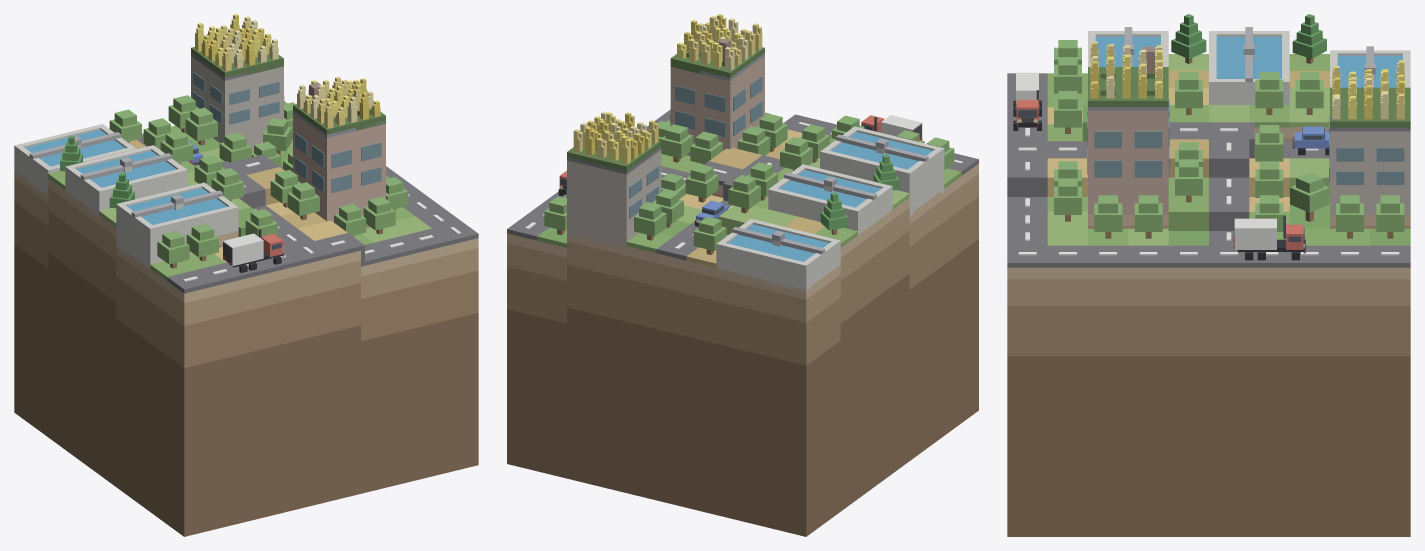
File: block_12_urbanfarm_20.glb
3 renders of one model, left to right at view 1: azimuth 30°, elevation 25°; view 2: azimuth 150°, elevation 25°; view 3: azimuth 270°, elevation 25°, orthographic. The views are drawn at different scales.
Parts seen in each view (by area): view 1: Patch_LowerLeft_b11_UF, Tanks_LowerLeft_UF, Factories_LowerLeft_b11_UF, Roads_LowerLeft_b11_UF, Ground_LowerLeft_b11_UF, UFR_Factories_LowerLeft_b11_UF, Asset_Truck.006_UF, Asset_Tree_Round.103_UF, Asset_Tree_Round.106_UF, Asset_Tree_Round.075_UF, Asset_Tree_Round.107_UF, Asset_Tree_Round.110_UF (+14 smaller); view 2: Patch_LowerLeft_b11_UF, Tanks_LowerLeft_UF, Factories_LowerLeft_b11_UF, Ground_LowerLeft_b11_UF, Roads_LowerLeft_b11_UF, UFR_Factories_LowerLeft_b11_UF, Asset_Tree_Round.081_UF, Asset_Truck.006_UF, Asset_Tree_Round.078_UF, Asset_Tree_Round.073_UF, Asset_Tree_Round.092_UF, Asset_Tree_Round.072_UF (+10 smaller); view 3: Patch_LowerLeft_b11_UF, Roads_LowerLeft_b11_UF, Ground_LowerLeft_b11_UF, Factories_LowerLeft_b11_UF, Tanks_LowerLeft_UF, UFR_Factories_LowerLeft_b11_UF, Asset_Truck.005_UF, RoadLines_LowerLeft_b11_UF, Asset_Truck.006_UF, Asset_Tree_Round.059_UF, Asset_Tree_Pine.001_UF, Asset_Tree_Pine.003_UF (+18 smaller).
Part boxes in pixels (x1,y1,x2,y2): Patch_LowerLeft_b11_UF: [14, 147, 478, 536]; Tanks_LowerLeft_UF: [14, 124, 238, 268]; Factories_LowerLeft_b11_UF: [191, 53, 385, 222]; Roads_LowerLeft_b11_UF: [137, 133, 478, 293]; Ground_LowerLeft_b11_UF: [48, 125, 431, 280]; UFR_Factories_LowerLeft_b11_UF: [191, 47, 385, 134]; Asset_Truck.006_UF: [223, 229, 284, 272]; Asset_Tree_Round.103_UF: [287, 182, 319, 219]; Asset_Tree_Round.106_UF: [157, 230, 189, 268]; Asset_Tree_Round.075_UF: [185, 107, 217, 145]; Asset_Tree_Round.107_UF: [186, 223, 218, 261]; Asset_Tree_Round.110_UF: [363, 196, 395, 234]; Patch_LowerLeft_b11_UF: [507, 163, 978, 536]; Tanks_LowerLeft_UF: [716, 126, 944, 292]; Factories_LowerLeft_b11_UF: [567, 38, 764, 248]; Ground_LowerLeft_b11_UF: [537, 129, 961, 267]; Roads_LowerLeft_b11_UF: [507, 109, 978, 260]; UFR_Factories_LowerLeft_b11_UF: [567, 47, 764, 172]; Asset_Tree_Round.081_UF: [685, 164, 718, 202]; Asset_Truck.006_UF: [861, 115, 922, 140]; Asset_Tree_Round.078_UF: [728, 175, 760, 213]; Asset_Tree_Round.073_UF: [634, 202, 666, 240]; Asset_Tree_Round.092_UF: [660, 124, 693, 162]; Asset_Tree_Round.072_UF: [693, 216, 726, 254]; Patch_LowerLeft_b11_UF: [1007, 127, 1410, 536]; Roads_LowerLeft_b11_UF: [1007, 73, 1410, 267]; Ground_LowerLeft_b11_UF: [1047, 54, 1410, 245]; Factories_LowerLeft_b11_UF: [1087, 46, 1410, 214]; Tanks_LowerLeft_UF: [1088, 27, 1410, 104]; UFR_Factories_LowerLeft_b11_UF: [1088, 67, 1410, 127]; Asset_Truck.005_UF: [1233, 215, 1305, 260]; RoadLines_LowerLeft_b11_UF: [1018, 128, 1399, 255]; Asset_Truck.006_UF: [1013, 72, 1041, 130]; Asset_Tree_Round.059_UF: [1290, 172, 1329, 221]; Asset_Tree_Pine.001_UF: [1171, 14, 1206, 63]; Asset_Tree_Pine.003_UF: [1292, 14, 1326, 63].
Size of the model in its own units: 9.5 by 11.29 by 9.5.
